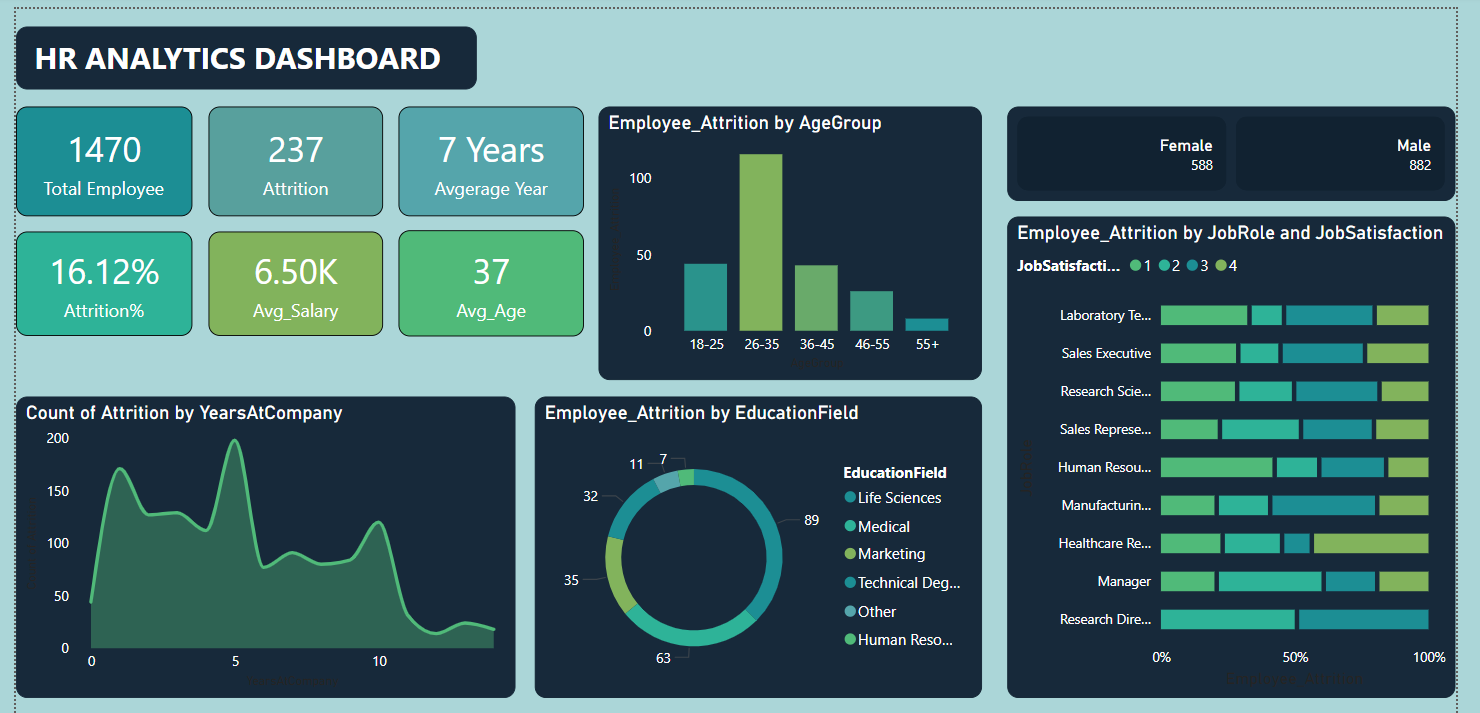

The page's visual inventory and layout, read from the dashboard file:
{"tool":"powerbi","page":{"name":"Page 1","canvas":[1280,720],"ordinal":0},"visuals":[{"type":"card","fields":{"Values":["HR_Analytics.Employee_Attrition"]},"box":[171.2,86.8,155.3,97.8],"z":0},{"type":"card","fields":{"Values":["HR_Analytics.Employee_Count"]},"box":[0,86.8,156.5,97.8],"z":1000},{"type":"card","fields":{"Values":["HR_Analytics.Years_with_Text"]},"box":[339.9,86.8,165.1,97.8],"z":2000},{"type":"card","fields":{"Values":["HR_Analytics.Attrition%"]},"box":[0,198.1,156.5,92.9],"z":3000},{"type":"card","fields":{"Values":["HR_Analytics.Avg_Salary"]},"box":[171.2,198.1,155.3,92.9],"z":4000},{"type":"card","fields":{"Values":["HR_Analytics.Avg_Age"]},"box":[339.9,196.9,165.1,94.2],"z":5000},{"type":"areaChart","fields":{"Y":["CountNonNull(HR_Analytics.Attrition)"],"Category":["HR_Analytics.YearsAtCompany"]},"box":[0,344.8,443.9,267.8],"z":6000},{"type":"donutChart","fields":{"Y":["HR_Analytics.Employee_Attrition"],"Category":["HR_Analytics.EducationField"]},"box":[461,344.8,397.4,267.8],"z":7000},{"type":"clusteredColumnChart","fields":{"Category":["HR_Analytics.AgeGroup","HR_Analytics.EducationField"],"Y":["HR_Analytics.Employee_Attrition"]},"box":[517.3,86.8,341.2,243.3],"z":8000},{"type":"hundredPercentStackedBarChart","fields":{"Y":["HR_Analytics.Employee_Attrition"],"Series":["HR_Analytics.JobSatisfaction"],"Category":["HR_Analytics.JobRole"]},"box":[881.7,184.6,398.6,428],"z":9000},{"type":"advancedSlicerVisual","fields":{"Values":["HR_Analytics.Gender"]},"box":[881.7,86.8,398.6,84.4],"z":10000},{"type":"textbox","box":[0,15.9,409.6,56.3],"z":11000}]}

Visuals, with their boxes on the page's 1280x720 design canvas (x1, y1, x2, y2). These are canvas units, not pixel positions in the 1480x713 screenshot, which may show the page scaled, cropped or inside an application window:
card - HR_Analytics.Employee_Attrition: (x1=171, y1=87, x2=326, y2=185)
card - HR_Analytics.Employee_Count: (x1=0, y1=87, x2=156, y2=185)
card - HR_Analytics.Years_with_Text: (x1=340, y1=87, x2=505, y2=185)
card - HR_Analytics.Attrition%: (x1=0, y1=198, x2=156, y2=291)
card - HR_Analytics.Avg_Salary: (x1=171, y1=198, x2=326, y2=291)
card - HR_Analytics.Avg_Age: (x1=340, y1=197, x2=505, y2=291)
areaChart - CountNonNull(HR_Analytics.Attrition) x HR_Analytics.YearsAtCompany: (x1=0, y1=345, x2=444, y2=613)
donutChart - HR_Analytics.Employee_Attrition x HR_Analytics.EducationField: (x1=461, y1=345, x2=858, y2=613)
clusteredColumnChart - HR_Analytics.AgeGroup x HR_Analytics.EducationField: (x1=517, y1=87, x2=858, y2=330)
hundredPercentStackedBarChart - HR_Analytics.Employee_Attrition x HR_Analytics.JobSatisfaction: (x1=882, y1=185, x2=1280, y2=613)
advancedSlicerVisual - HR_Analytics.Gender: (x1=882, y1=87, x2=1280, y2=171)
textbox: (x1=0, y1=16, x2=410, y2=72)
